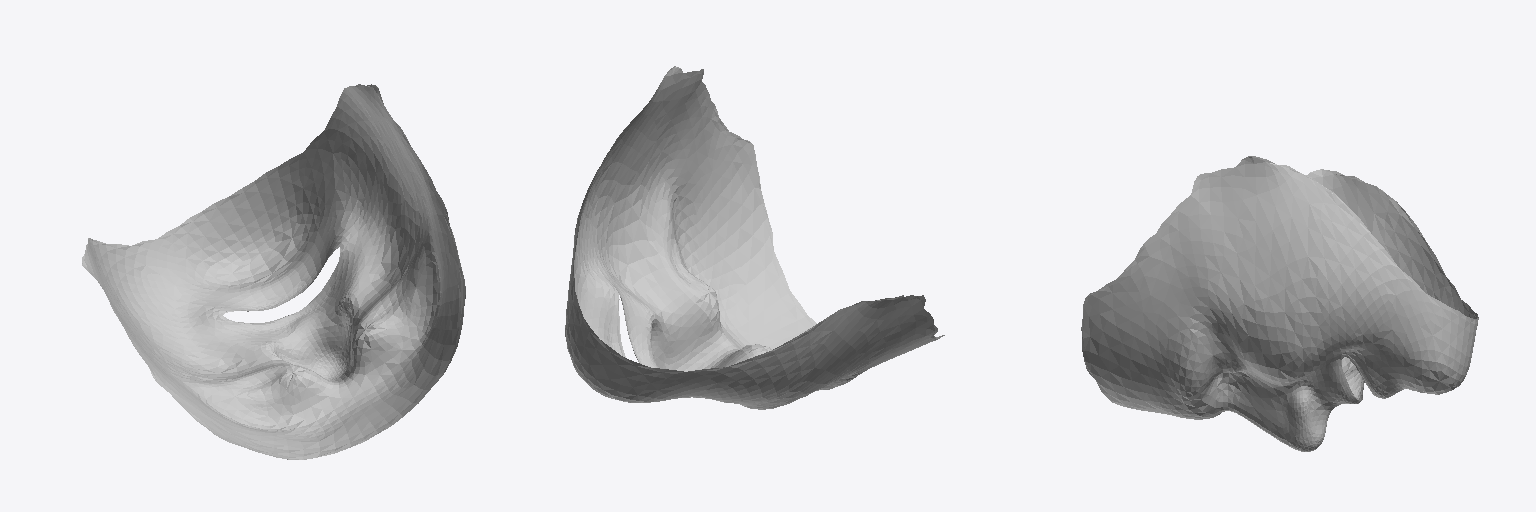
File: face_gab_sfm108.obj
3 views of the same model, side by side, from view 1: azimuth 30°, elevation 25°; view 2: azimuth 150°, elevation 25°; view 3: azimuth 270°, elevation 25° (orthographic).
Bounding box in the file's own units: 168 × 160 × 189.